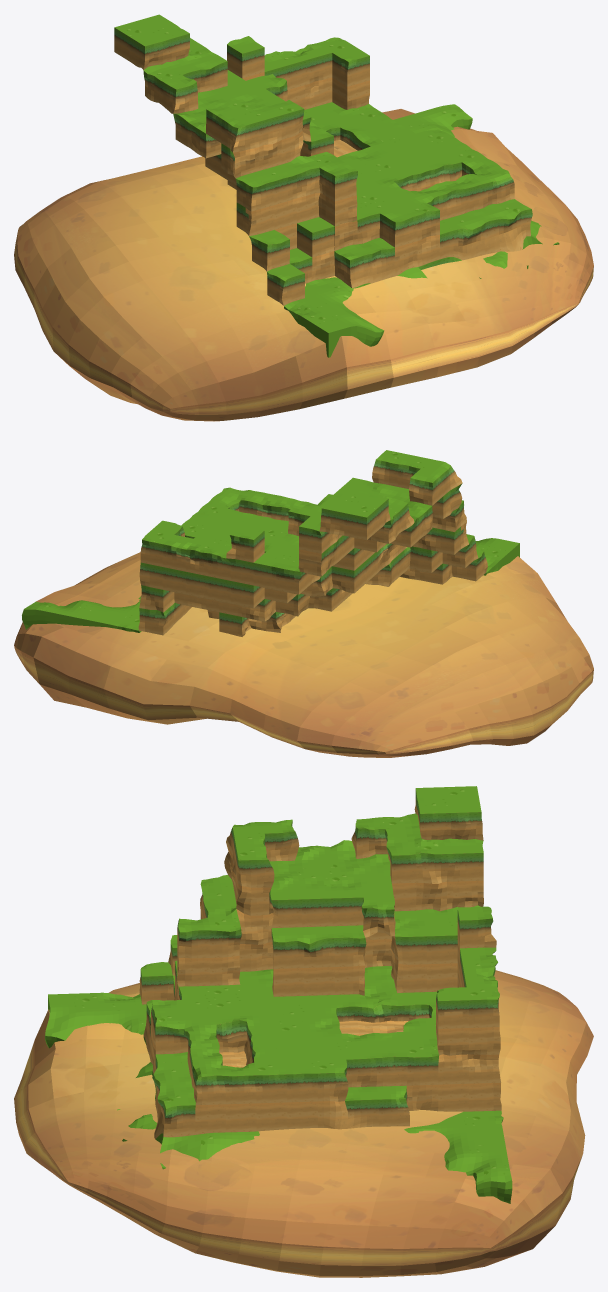
File: IslandNew.fbx
The picture shows the model from 3 angles, top to bottom: view 1: azimuth 30°, elevation 25°; view 2: azimuth 150°, elevation 25°; view 3: azimuth 270°, elevation 25°; orthographic projection. The views are drawn at different scales.
Parts seen in each view (by area): view 1: Cube, Cloner_1; view 2: Cube, Cloner_1; view 3: Cloner_1, Cube.
Part boxes in pixels (x1,y1,x2,y2): Cube: (14, 109, 593, 421); Cloner_1: (114, 14, 559, 357); Cube: (14, 552, 593, 757); Cloner_1: (22, 450, 519, 636); Cloner_1: (45, 786, 512, 1203); Cube: (14, 970, 593, 1277).
Bounding box in the file's own units: 432 × 229 × 377.
Materials: 7 (7 with a texture image).
